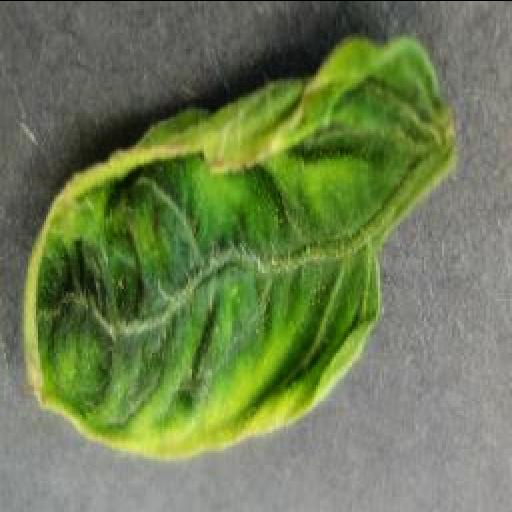disease_tomato: (20, 30, 456, 464)
